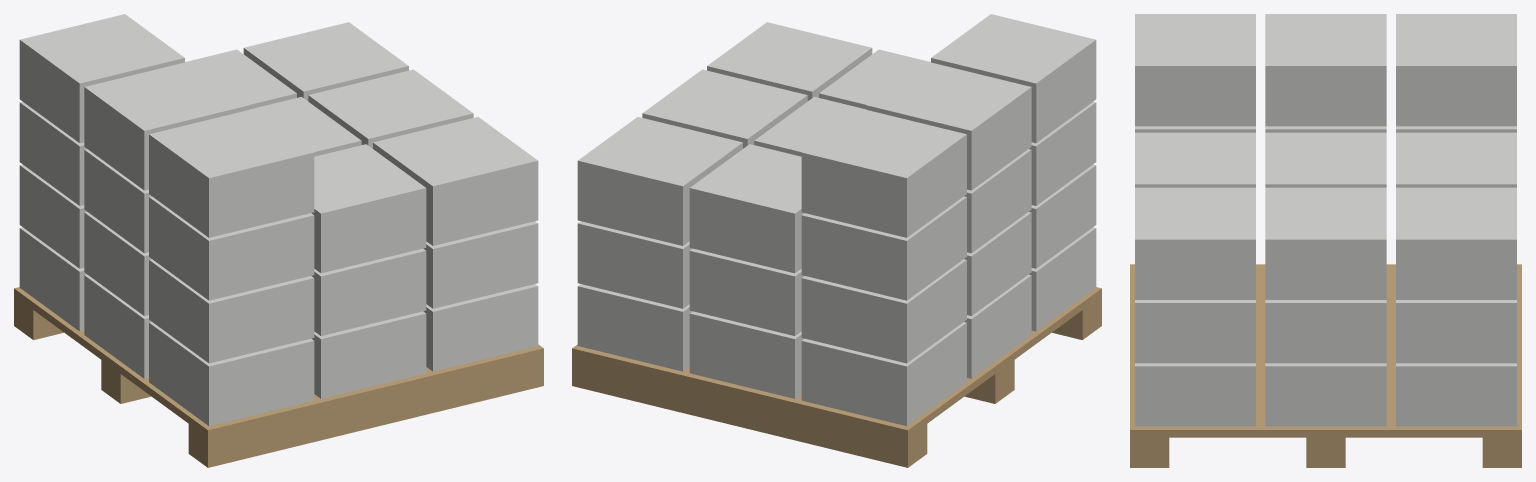
Rendered from pallet_mp_30.glb.
3 views of the same model, side by side, from view 1: azimuth 30°, elevation 25°; view 2: azimuth 150°, elevation 25°; view 3: azimuth 270°, elevation 25° (orthographic).
Parts seen in each view (by area): view 1: PalletMP; view 2: PalletMP; view 3: PalletMP.
Part boxes in pixels (left/top/right/bottom): PalletMP: left=14, top=14, right=543, bottom=467; PalletMP: left=572, top=14, right=1101, bottom=467; PalletMP: left=1130, top=14, right=1521, bottom=467.
Bounding box in the file's own units: 1 × 0.8171 × 1.
